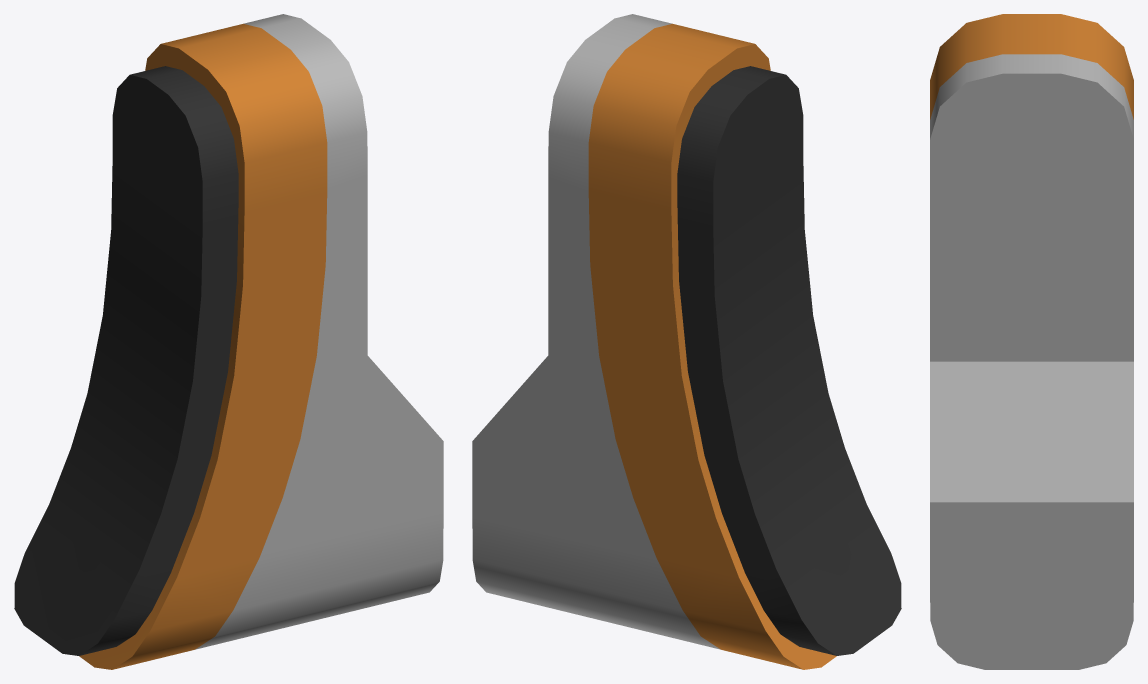
The model's file is Stock_Sniper_1.gltf.
The picture shows the model from 3 angles, left to right: view 1: azimuth 30°, elevation 25°; view 2: azimuth 150°, elevation 25°; view 3: azimuth 270°, elevation 25°; orthographic projection.
Parts seen in each view (by area): view 1: Stock_Sniper_1; view 2: Stock_Sniper_1; view 3: Stock_Sniper_1.
Boxes of the visible parts, bbox=[...] form: Stock_Sniper_1: bbox=[14, 14, 443, 669]; Stock_Sniper_1: bbox=[472, 14, 901, 669]; Stock_Sniper_1: bbox=[930, 14, 1133, 669].
Bounding box in the file's own units: 0.1795 × 0.2756 × 0.091.
